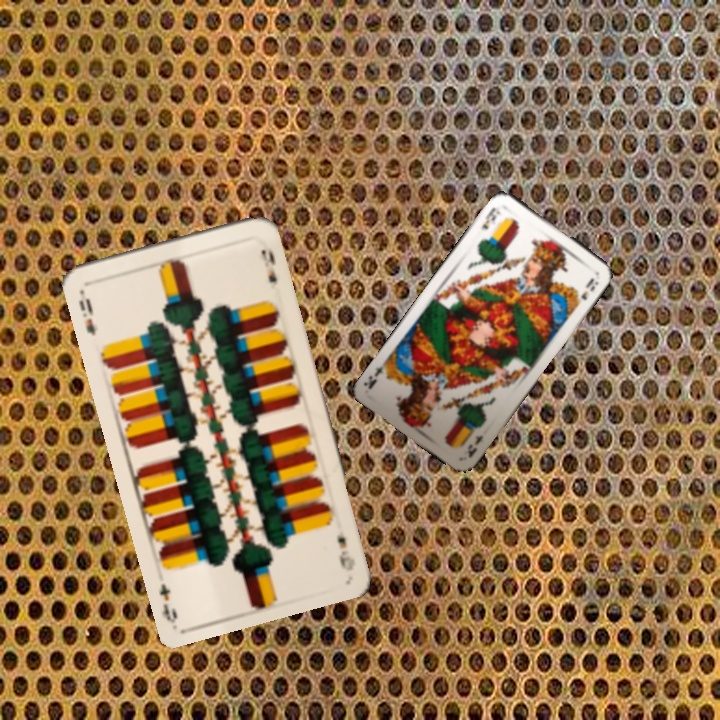E9: (333, 531, 358, 574), (75, 294, 98, 338)
EK: (477, 201, 503, 233), (463, 430, 486, 460)
